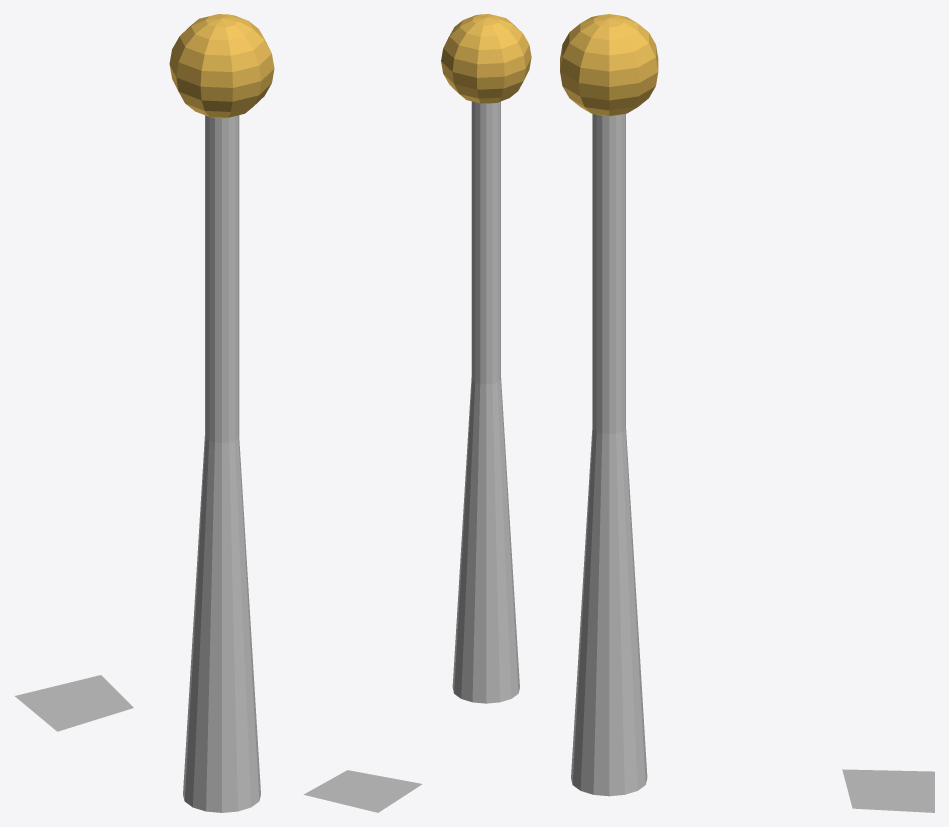
The model's file is flag.fbx.
The picture shows the model from 3 angles, left to right: view 1: azimuth 30°, elevation 25°; view 2: azimuth 150°, elevation 25°; view 3: azimuth 270°, elevation 25°; orthographic projection. The views are drawn at different scales.
Visible parts, largest first — view 1: Mast_02, Flag_02; view 2: Mast_02, Flag_02; view 3: Mast_02, Flag_02.
Boxes of the visible parts, box(x1,y1,x2,y2) form: Mast_02: box(169, 14, 274, 812); Flag_02: box(15, 675, 133, 731); Mast_02: box(441, 14, 531, 703); Flag_02: box(303, 770, 422, 812); Mast_02: box(560, 14, 658, 796); Flag_02: box(842, 769, 934, 812).
Size of the model in its own units: 1 by 8.28 by 3.64.
